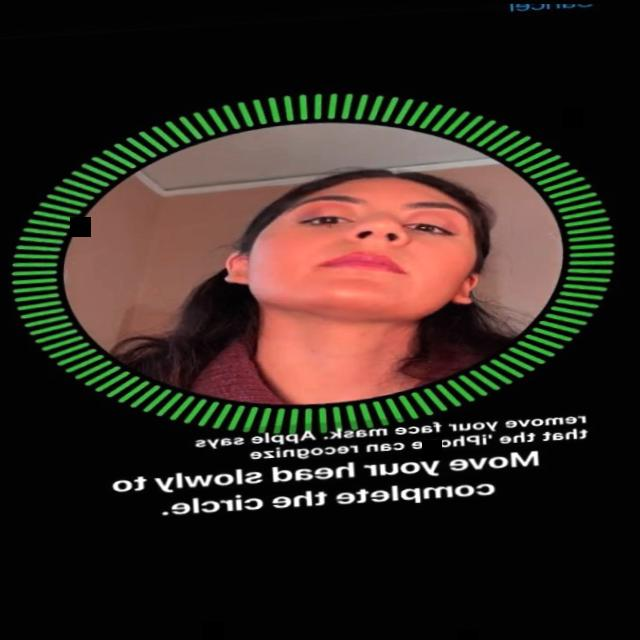NO-Mask: (228, 168, 495, 337)
